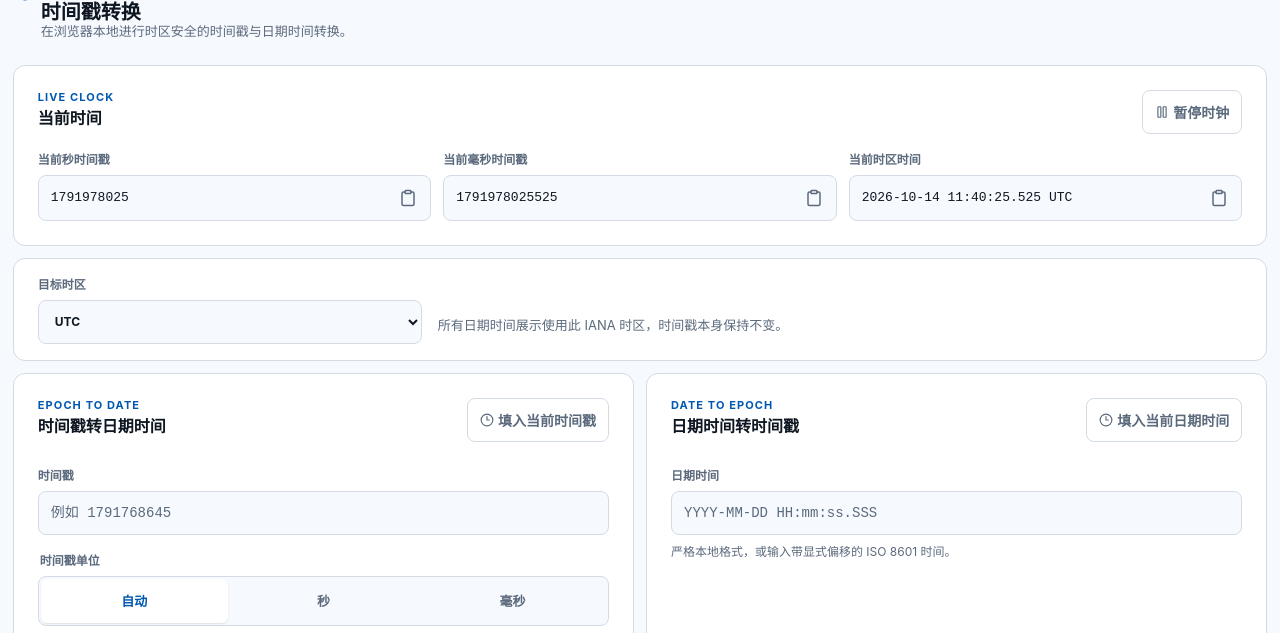
Test case: shows a DST gap alert and lets the user select an overlap candidate
Select "America/Los_Angeles" in the dropdown labelled "目标时区". click: (230, 322)
box: [38, 300, 422, 344]
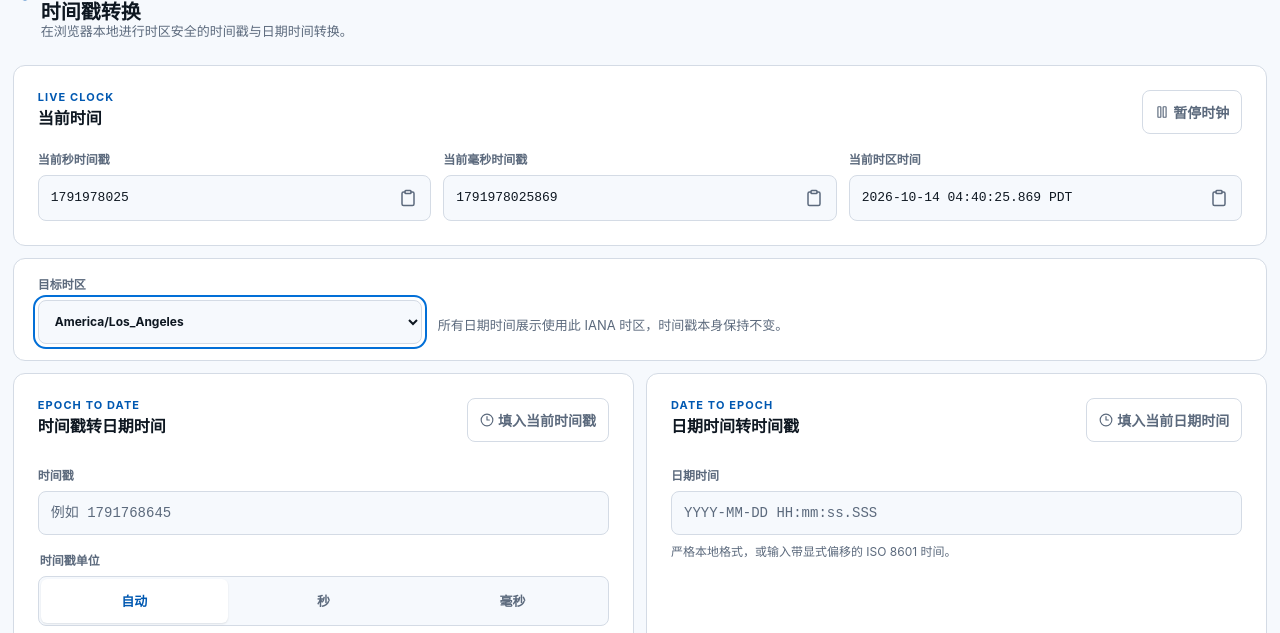
Type "2026-03-08 02:30:00.000" into the field labelled "日期时间". click: (957, 512)
box: [671, 490, 1242, 534]
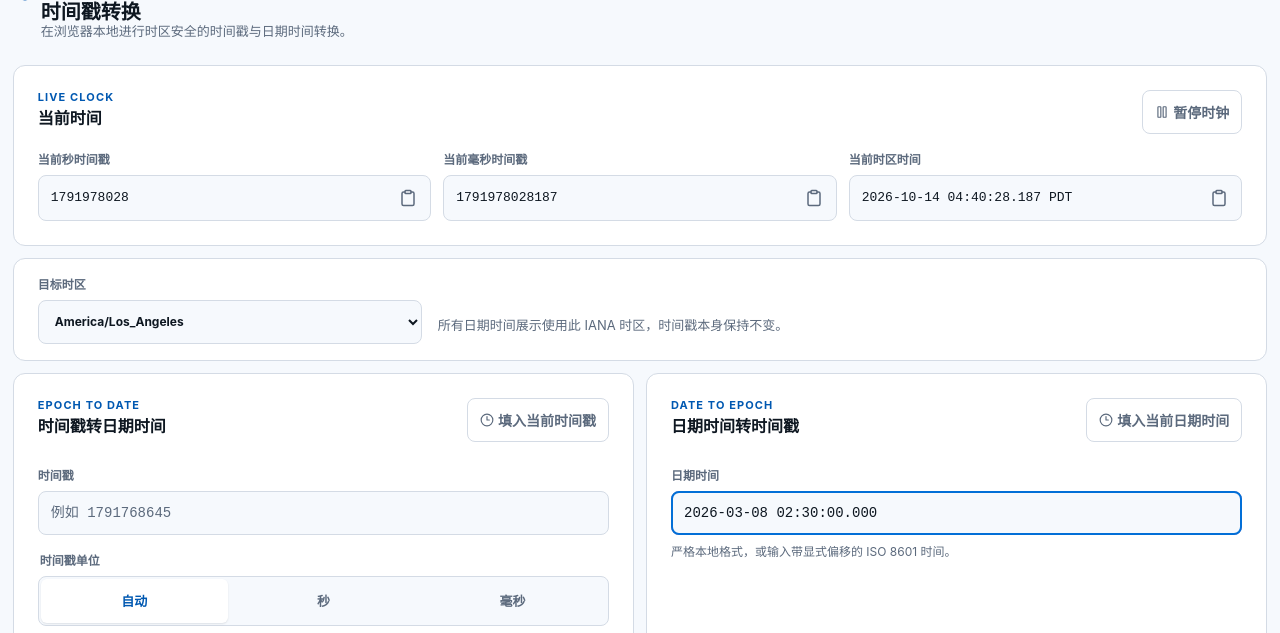
Replace the text in the field labelled "日期时间" with "2026-11-01 01:30:00.000". click: (957, 512)
box: [671, 490, 1242, 534]
(page scrolled)
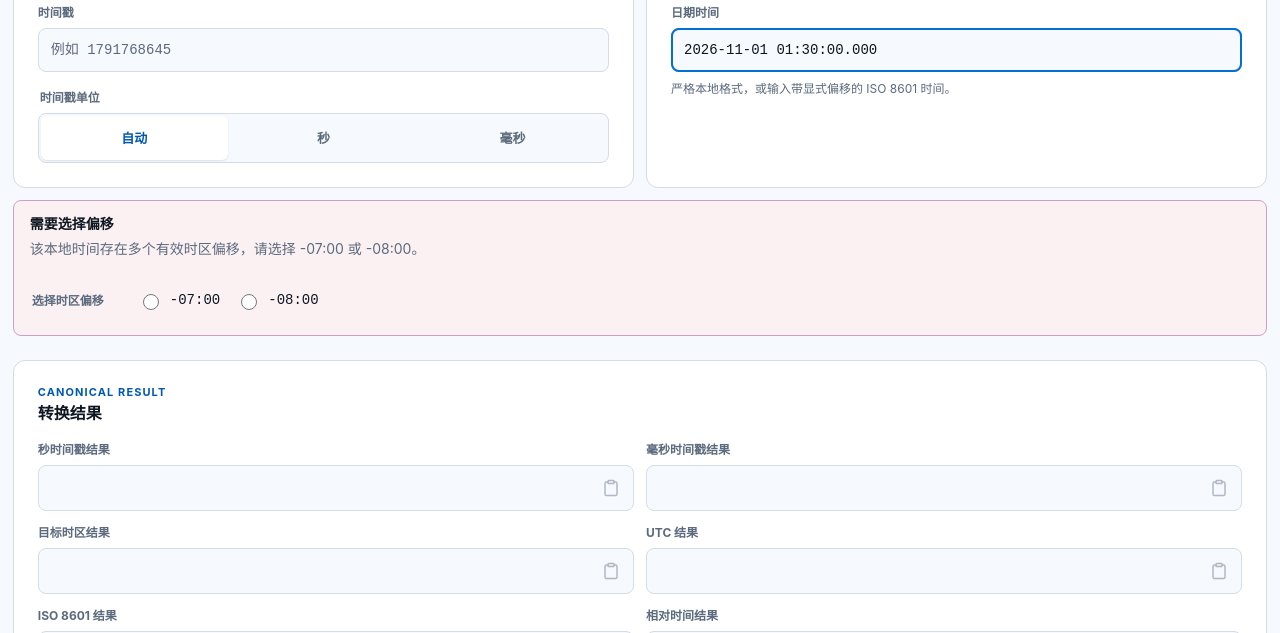
Expected: the message shows "多个有效时区偏移", [30, 240, 425, 256]
Expected: the radio button labelled "-07:00" is shown, [143, 294, 159, 310]
Expected: the radio button labelled "-08:00" is shown
Click the radio button labelled "-08:00". click: (249, 302)
box: [241, 294, 257, 310]
(page scrolled)
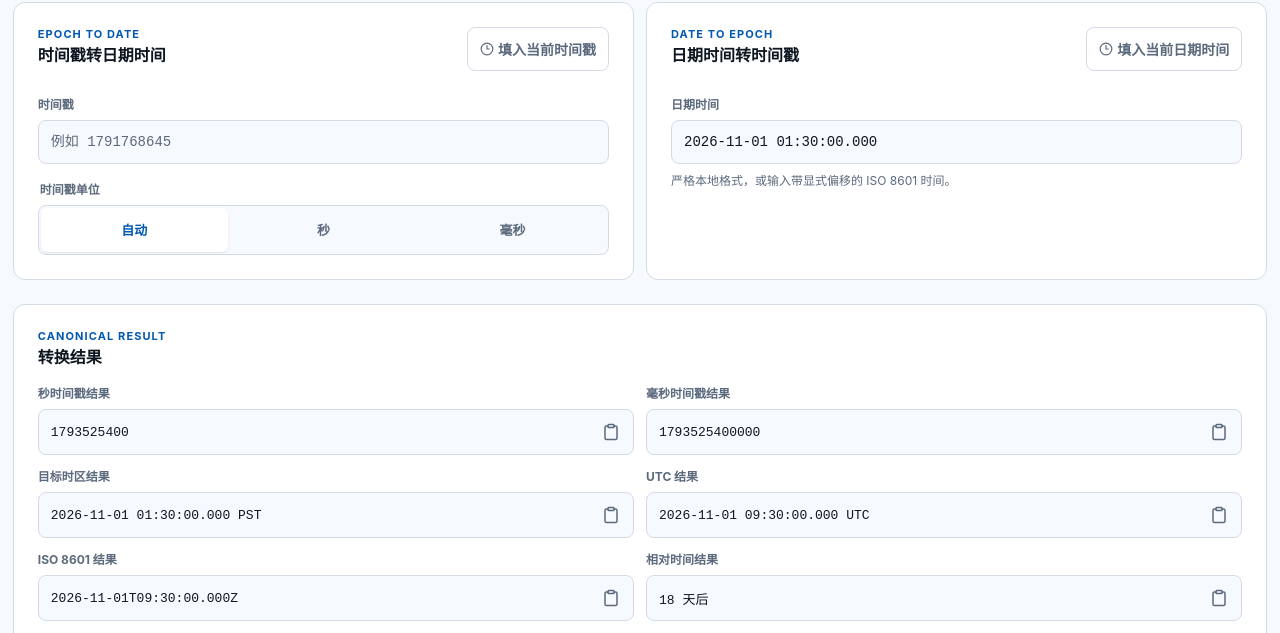
Expected: the message "需要选择偏移 该本地时间存在多个有效时区偏移，请选择 -07:00 或 -08:00。 选择时区偏移 -07:00 -08:00" is gone
Expected: the field named "ISO 8601 结果" holds "2026-11-01T09:30:00.000Z", [39, 576, 589, 620]
